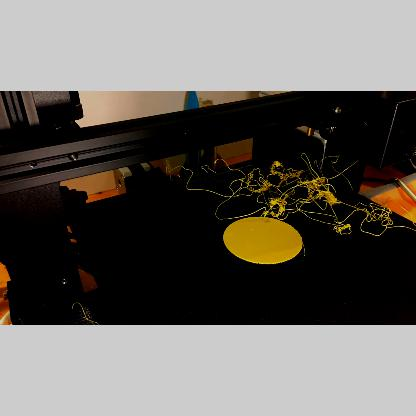fail: (232, 160, 342, 212), (346, 201, 416, 241), (302, 216, 344, 234)
